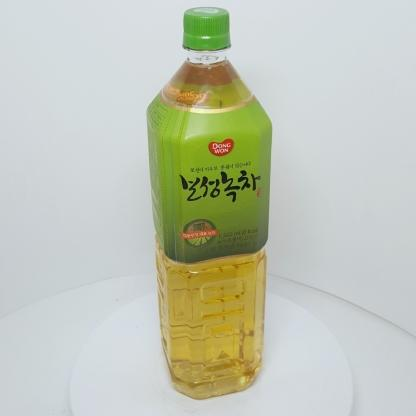------1500ML: (146, 7, 272, 399)
